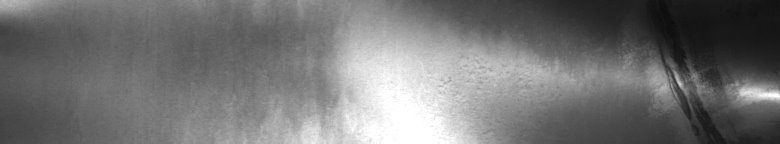ke: (623, 41, 776, 136)
